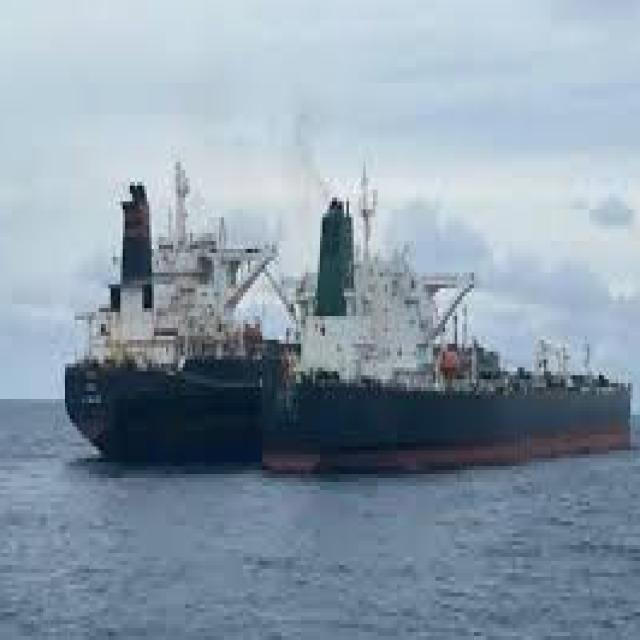cargoship: (266, 191, 626, 474), (63, 174, 304, 458)
